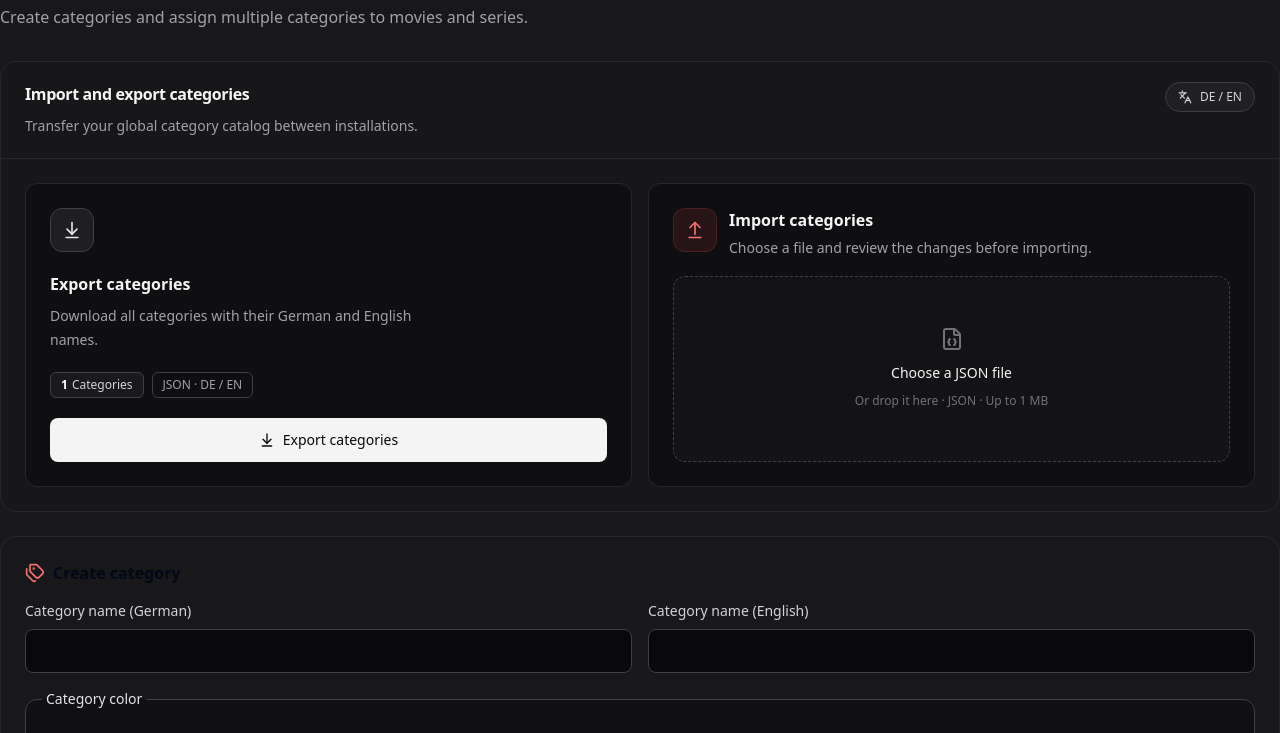
Test: reports a network failure without exposing internal error details
Type "New category" into the field labelled "Category name (German)" at (328, 651), box [25,629,632,673]
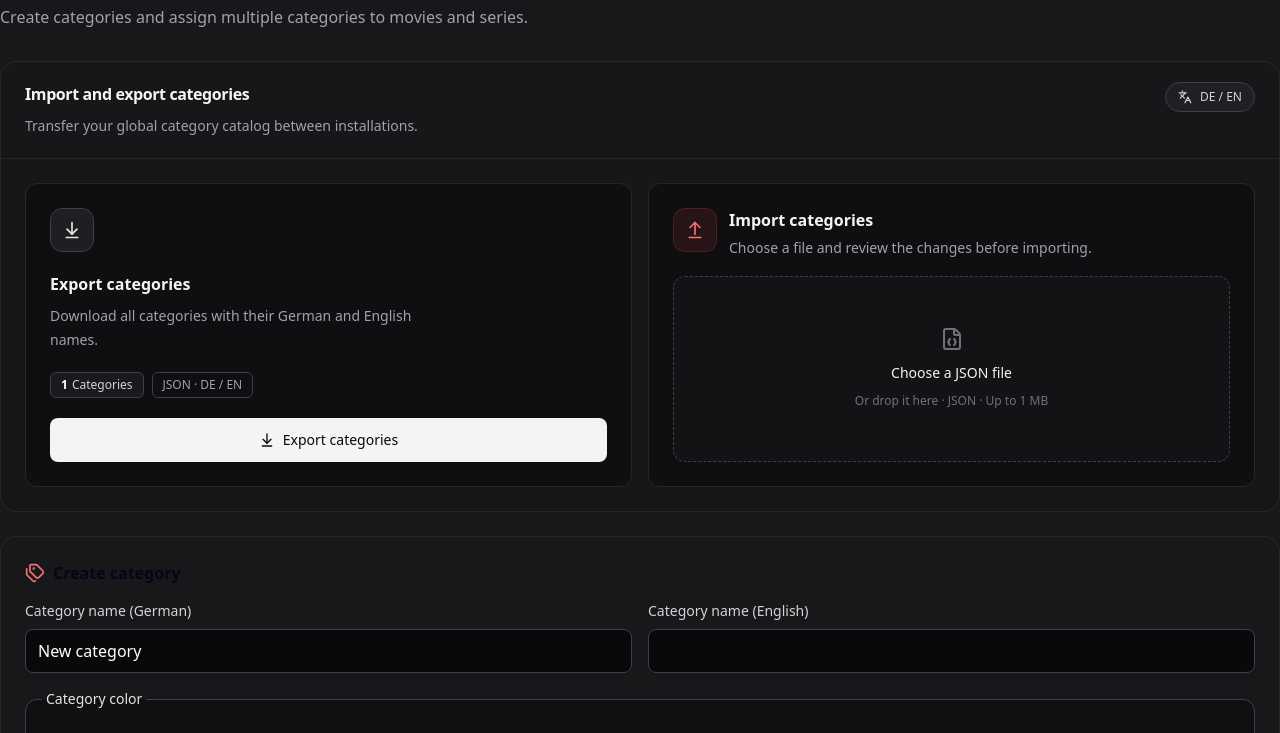
Type "New category" into the field labelled "Category name (English)" at (952, 651), box [648,629,1255,673]
(page scrolled)
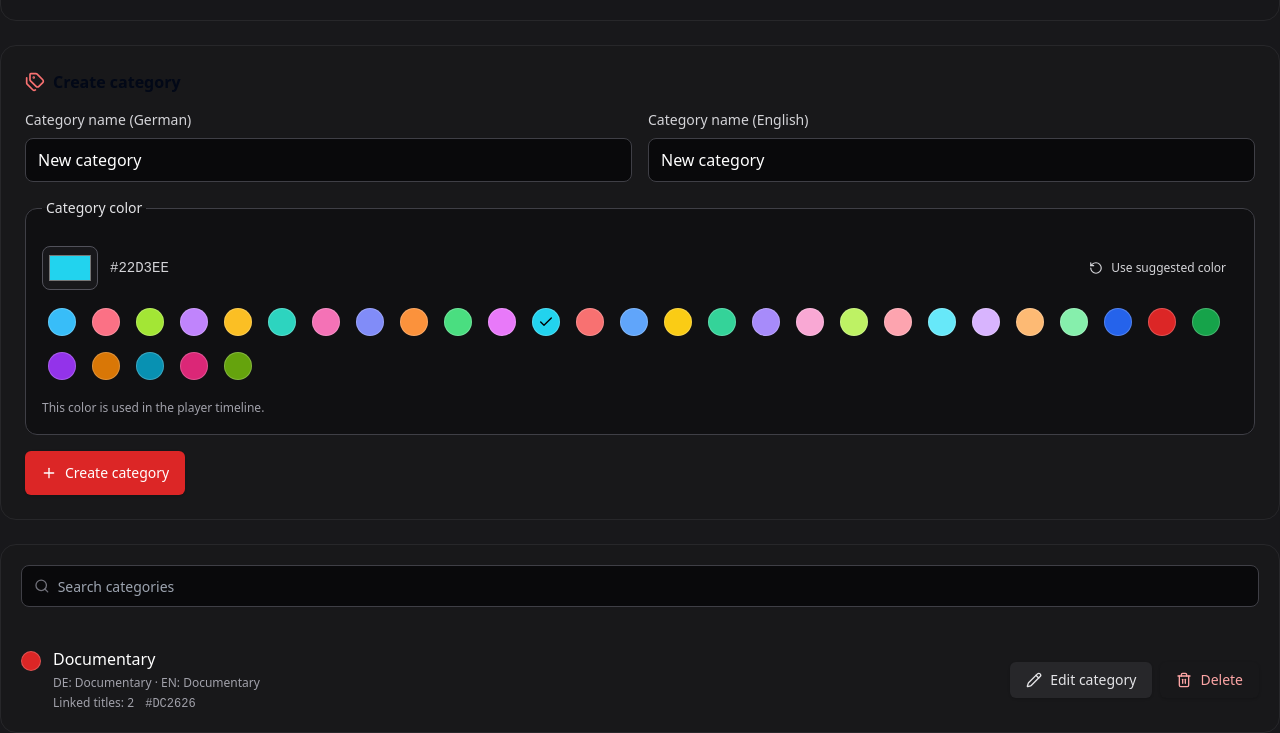
Click the button "Create category" at (105, 473), box [25,451,185,495]
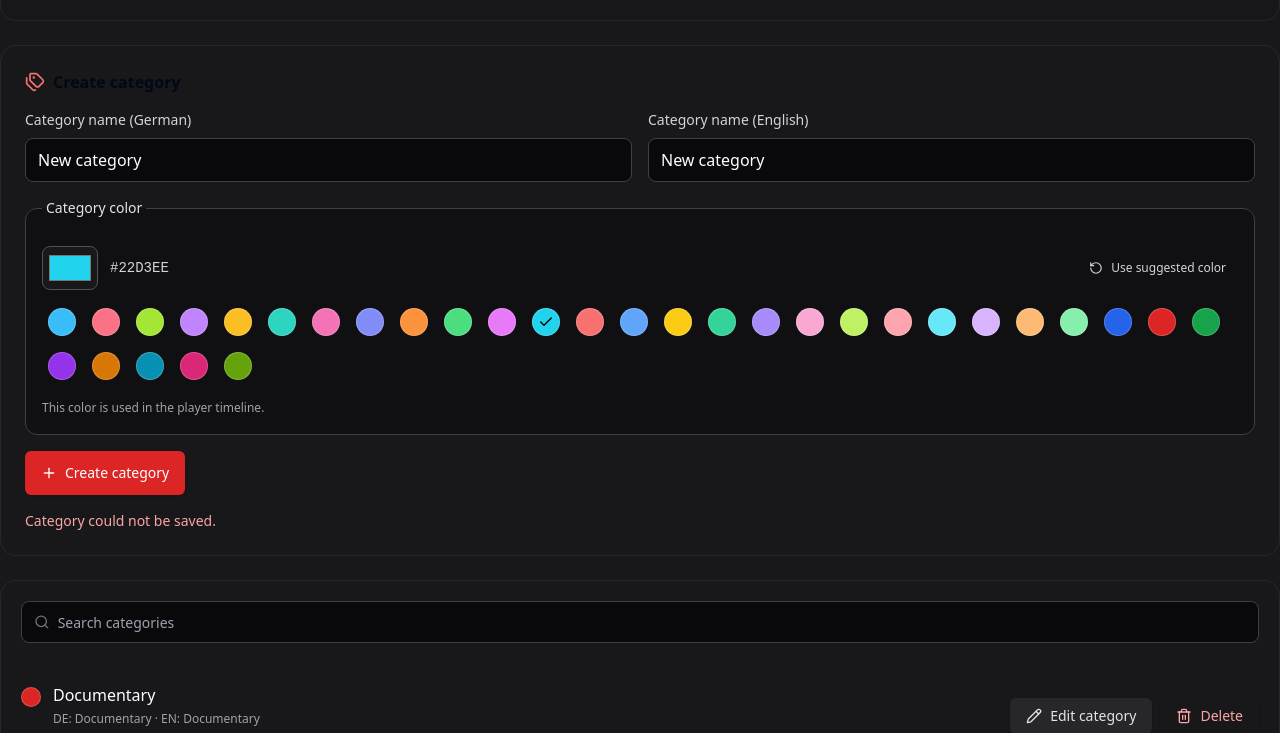
Check: the message reads "Category could not be saved.", box [25,511,216,530]
